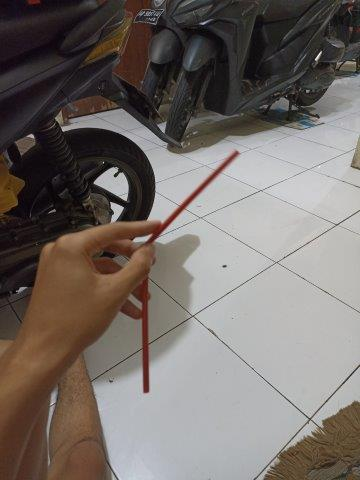sedotan: (141, 153, 239, 392)
